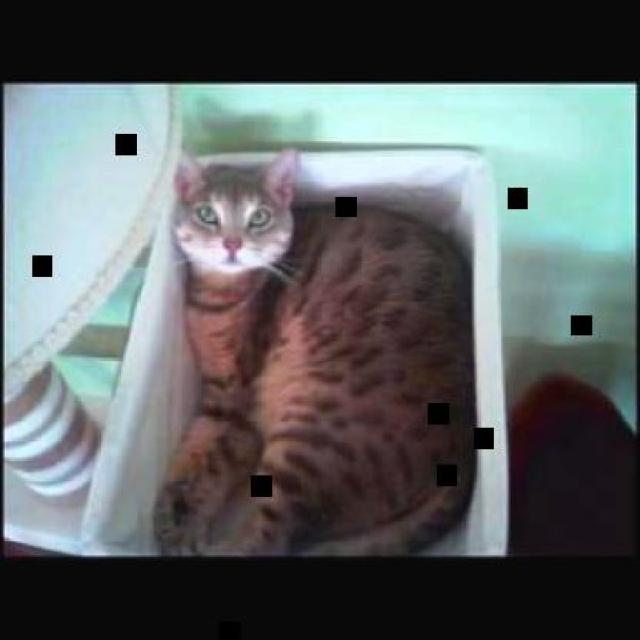unauthorized: (151, 147, 475, 556)
